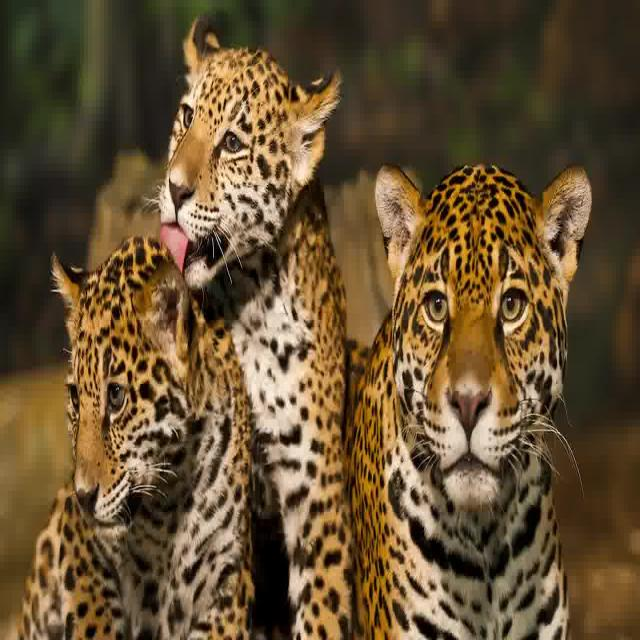Jaguar: (131, 16, 375, 640), (330, 129, 600, 640), (54, 249, 258, 640)
